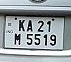1: (46, 20, 52, 33), (43, 33, 49, 46)
2: (37, 20, 46, 32)
5: (25, 33, 34, 45), (34, 33, 41, 46)
9: (50, 34, 57, 46)
A: (27, 19, 34, 32)
K: (18, 19, 26, 32)
M: (14, 32, 22, 46)
